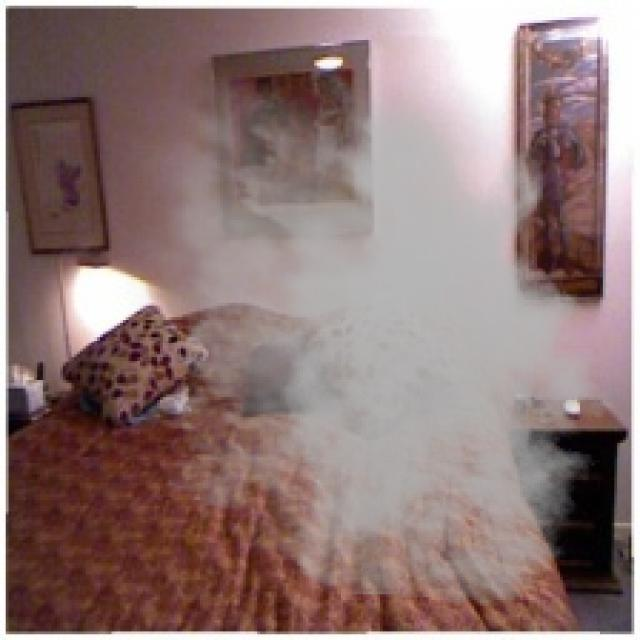smoke: (103, 54, 631, 609)
